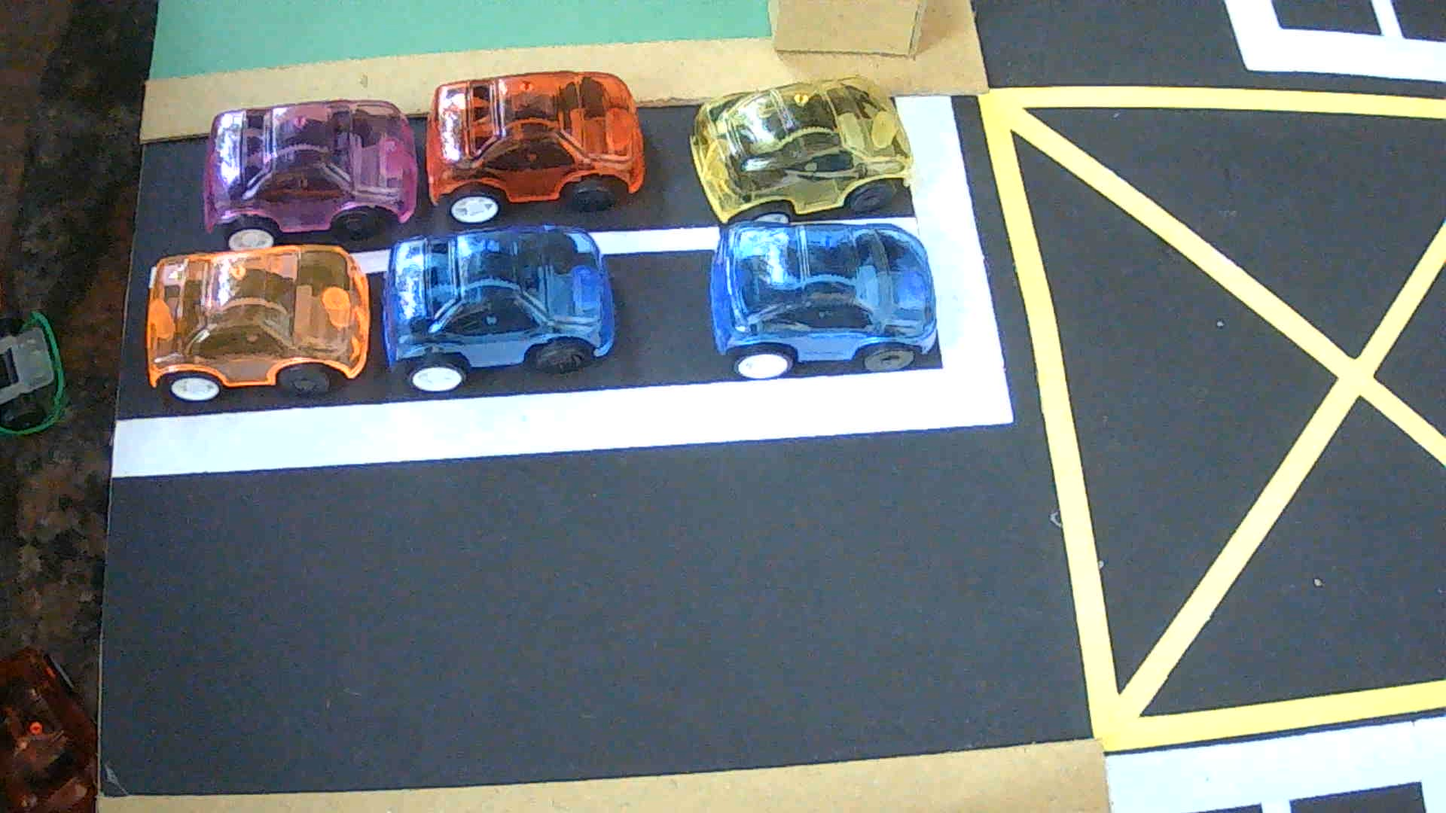Mobil biru: (383, 225, 615, 391), (709, 221, 936, 379)
Mobil kuning: (689, 77, 912, 223)
Mobil merah: (425, 71, 644, 224)
Mobil orange: (145, 245, 370, 401)
Mobil ungu: (202, 99, 418, 249)
